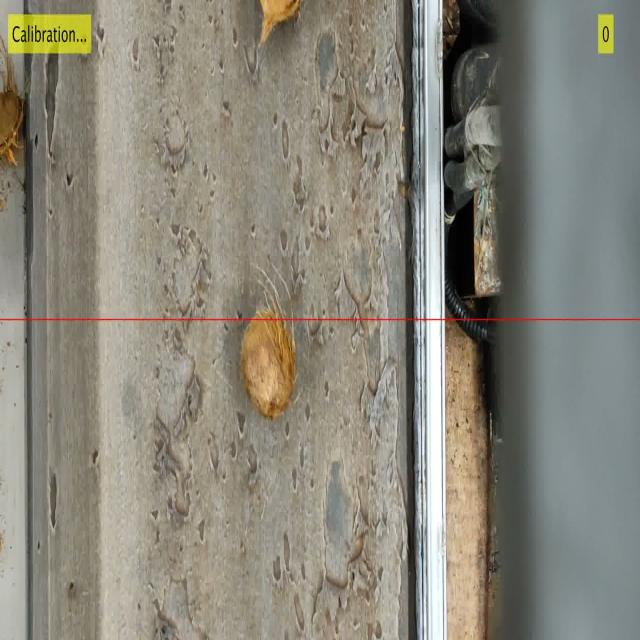Coconut-Conveyor-Belt: (239, 305, 296, 415), (255, 0, 302, 49)
